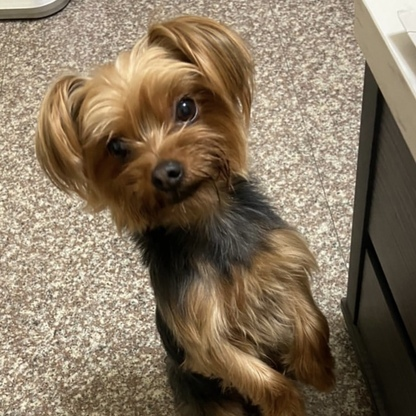yorkshire: (35, 15, 337, 413)
